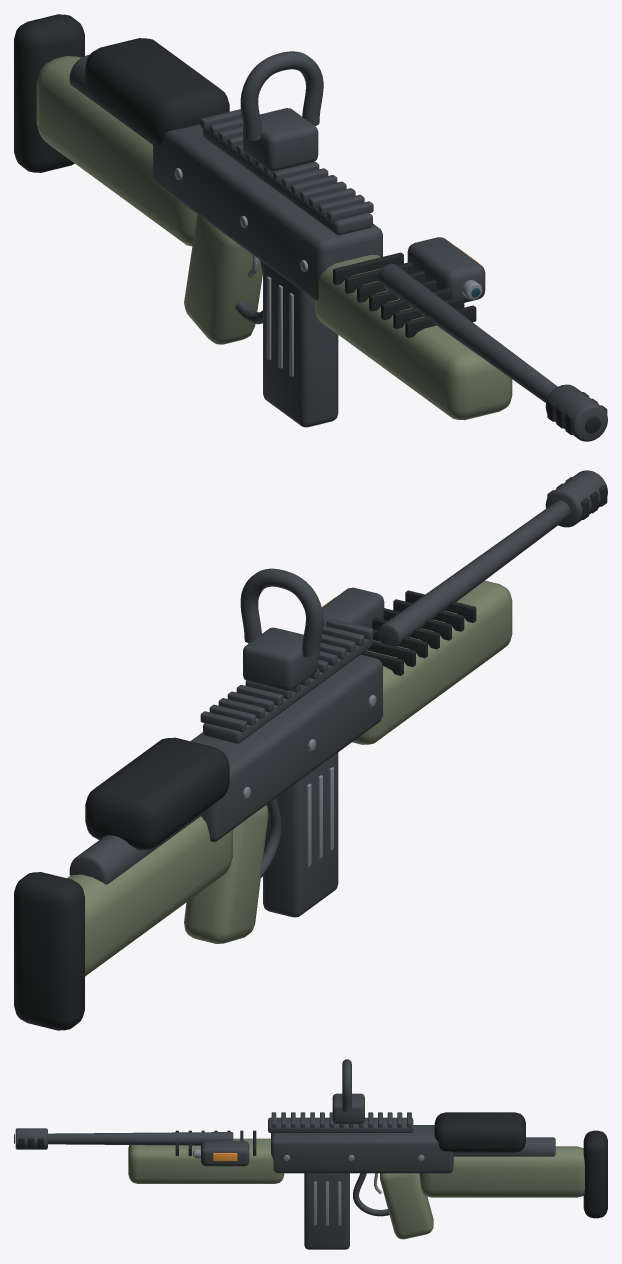
Rendered from rifle.glb.
3 views of the same model, one above another, from view 1: azimuth 30°, elevation 25°; view 2: azimuth 150°, elevation 25°; view 3: azimuth 270°, elevation 25° (orthographic). The views are drawn at different scales.
Visible parts, largest first — view 1: Static_Phosphate_steel.001, Static_Olive_polymer.001, Static_Textured_rubber.001, MagazineAssembly, Static_Exposed_machined_metal.001; view 2: Static_Phosphate_steel.001, Static_Textured_rubber.001, Static_Olive_polymer.001, MagazineAssembly; view 3: Static_Phosphate_steel.001, Static_Olive_polymer.001, Static_Textured_rubber.001, MagazineAssembly.
Part boxes in pixels (x1,y1,x2,y2): Static_Phosphate_steel.001: (69,51,607,441); Static_Olive_polymer.001: (36,56,512,420); Static_Textured_rubber.001: (14,14,607,434); MagazineAssembly: (263,262,338,427); Static_Exposed_machined_metal.001: (174,168,482,299); Static_Phosphate_steel.001: (69,470,607,884); Static_Textured_rubber.001: (14,477,607,1030); Static_Olive_polymer.001: (67,580,512,976); MagazineAssembly: (263,752,338,917); Static_Phosphate_steel.001: (15,1059,555,1216); Static_Olive_polymer.001: (128,1138,584,1239); Static_Textured_rubber.001: (14,1112,607,1218); MagazineAssembly: (304,1173,349,1249).
Bounding box in the file's own units: 0.1291 × 0.3776 × 1.11.
